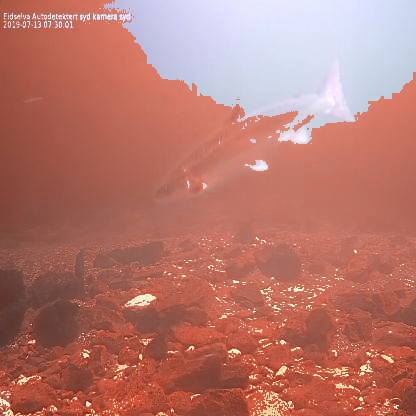salmon: (150, 52, 360, 209)
